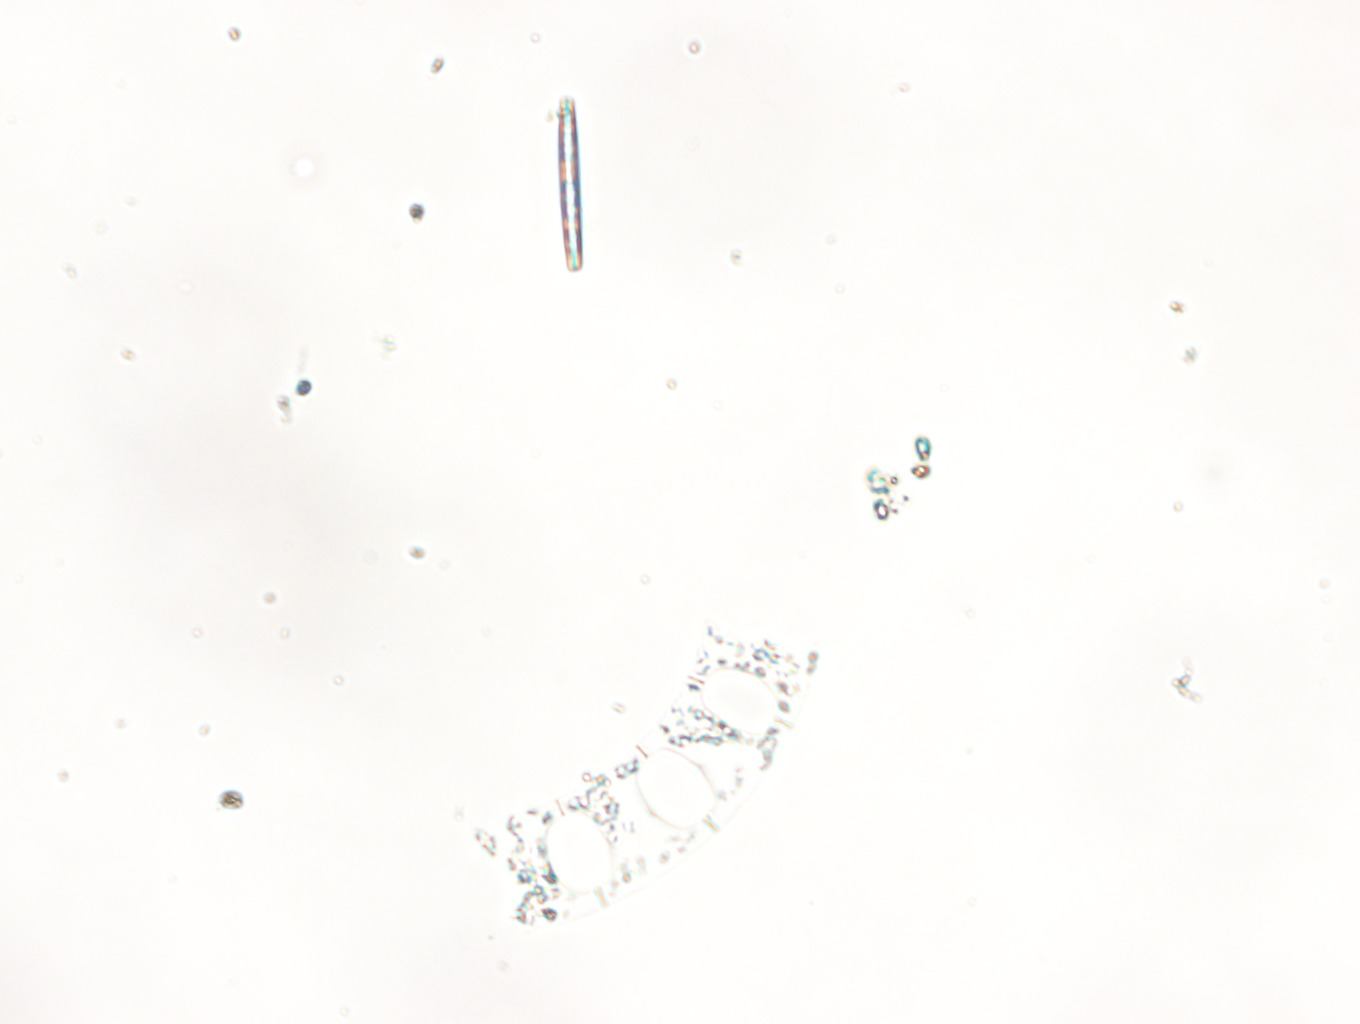eucampia: (474, 626, 819, 929)
thalassionema nitzschioides: (554, 98, 586, 273)
